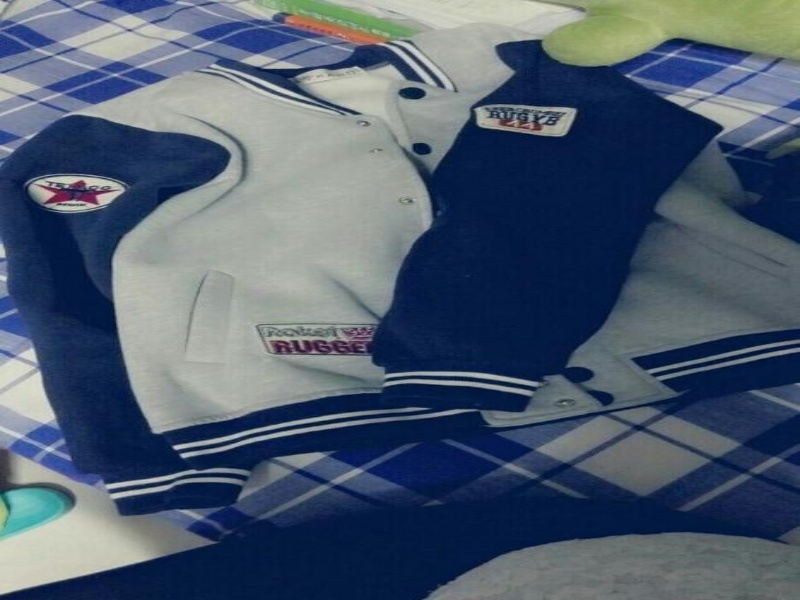long_sleeved_shirt: (0, 21, 797, 519)
